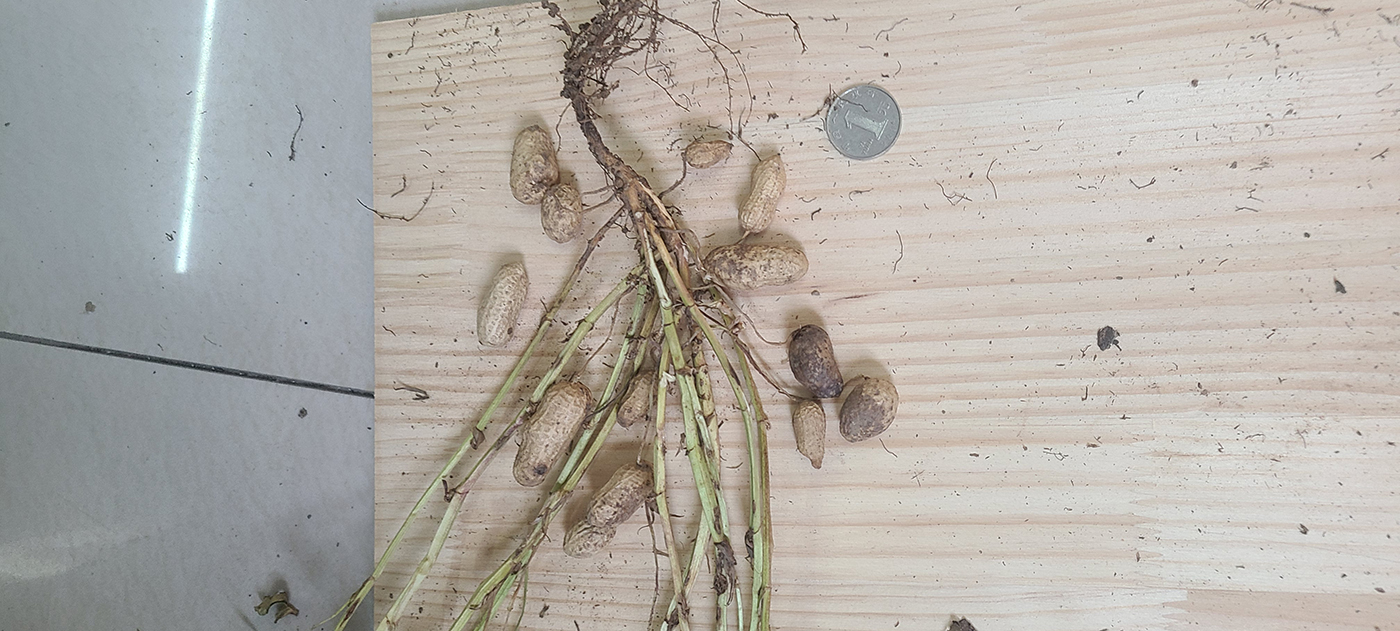h: (562, 460, 655, 557), (514, 380, 591, 485), (706, 246, 808, 293), (478, 261, 529, 346), (738, 152, 788, 235), (510, 122, 559, 205), (792, 400, 827, 468), (543, 185, 582, 245), (617, 372, 660, 424)
l: (786, 325, 844, 396), (839, 380, 900, 444)
